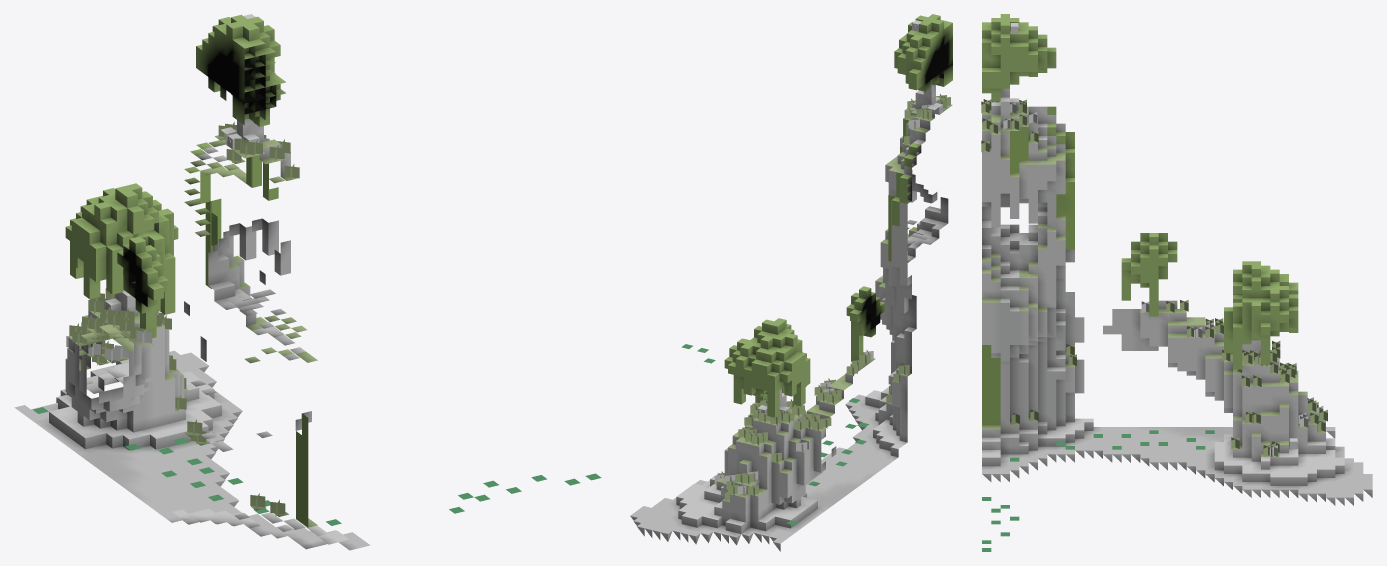
3 renders of one model, left to right at view 1: azimuth 30°, elevation 25°; view 2: azimuth 150°, elevation 25°; view 3: azimuth 270°, elevation 25°, orthographic. The views are drawn at different scales.
Visible parts, largest first — view 1: recorte, opaco; view 2: opaco, recorte; view 3: opaco, recorte.
Boxes of the visible parts, x1,y1,x2,y2 form: recorte: (33, 14, 601, 527); opaco: (14, 73, 370, 550); opaco: (630, 51, 948, 551); recorte: (681, 14, 952, 525); opaco: (982, 88, 1372, 505); recorte: (981, 14, 1327, 551).
Size of the model in its own units: 34.2 by 50 by 42.08.
